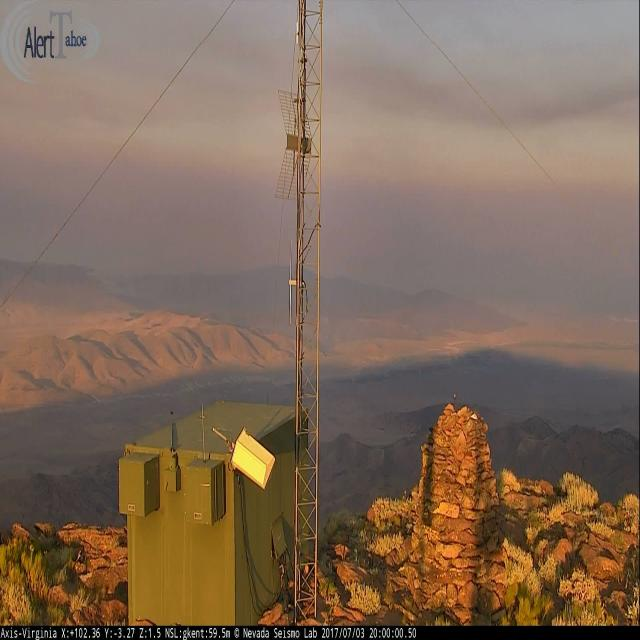smoke: (87, 265, 110, 285)
